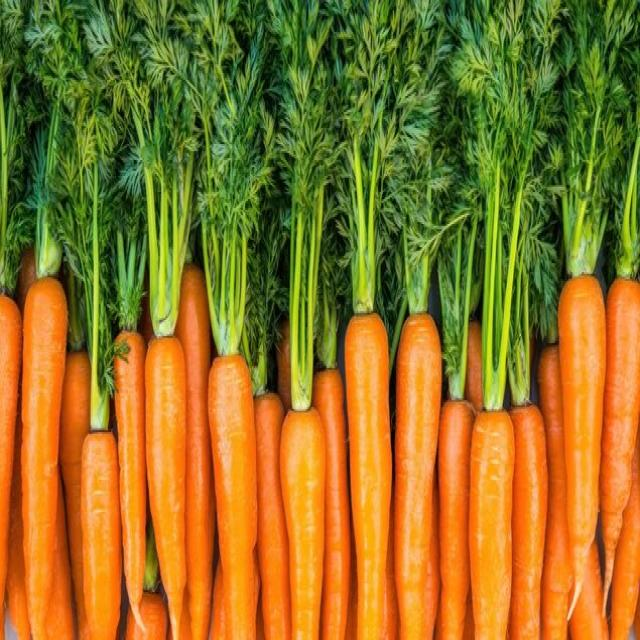Carrot: (600, 132, 639, 622), (557, 272, 607, 620), (20, 276, 68, 638), (393, 311, 442, 638), (207, 352, 257, 638), (175, 262, 213, 638), (144, 334, 187, 638), (112, 329, 146, 631), (0, 292, 22, 638)
